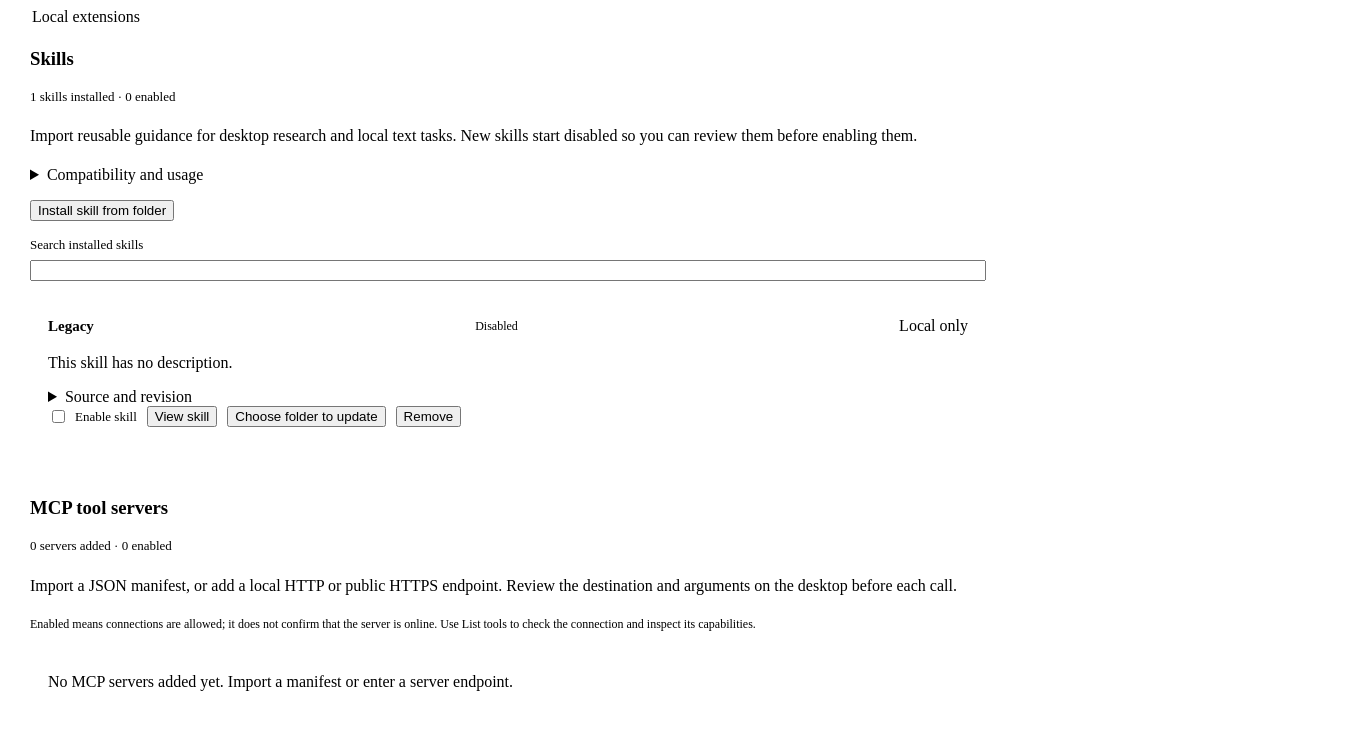
Test: offers an explicit source choice for legacy skills and removes only the selected entry
Expected: the button "Choose folder to update" is shown, [227,406,386,427]
Click the heading "Source and revision". click: (128, 397)
box: [65,388,192,405]
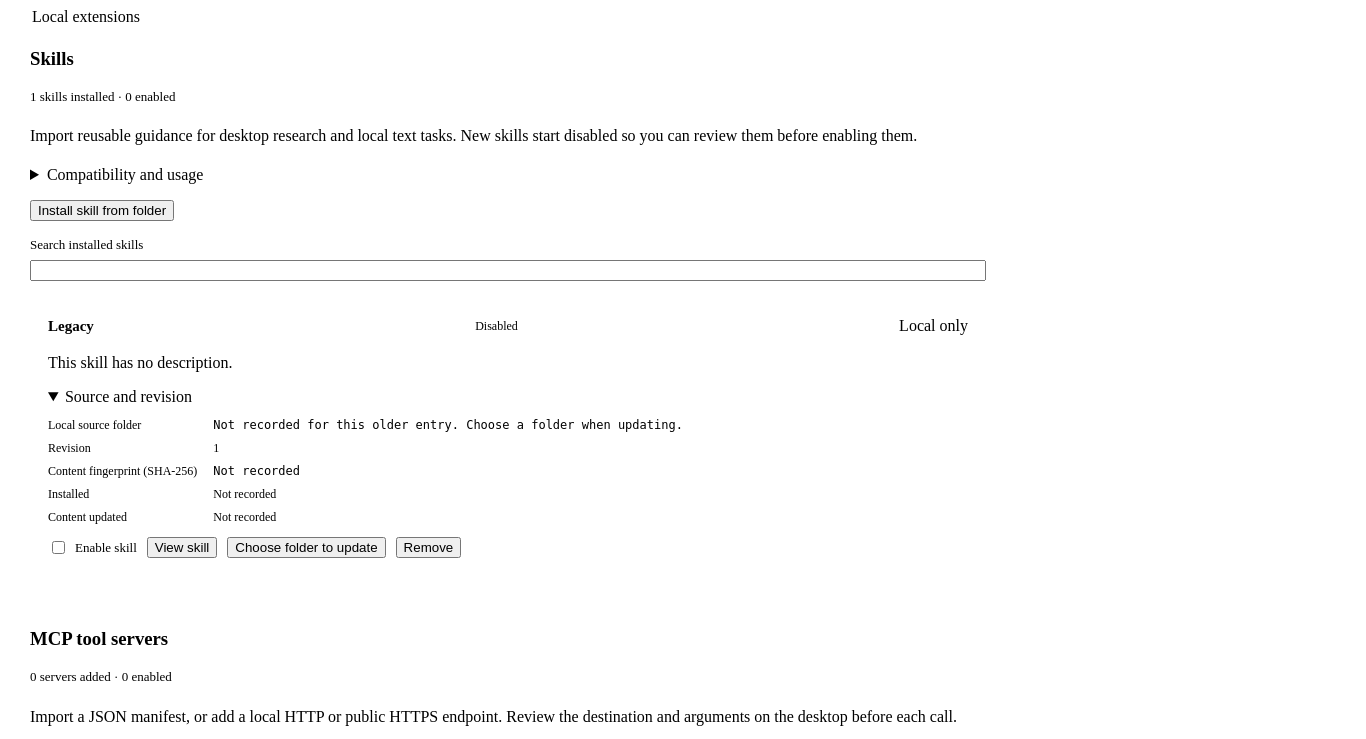
Expected: the text "Not recorded for this older entry. Choose a folder when updating." is shown, [213,418,683,432]
Click the button "Remove". click: (428, 548)
box: [396,537,461,558]
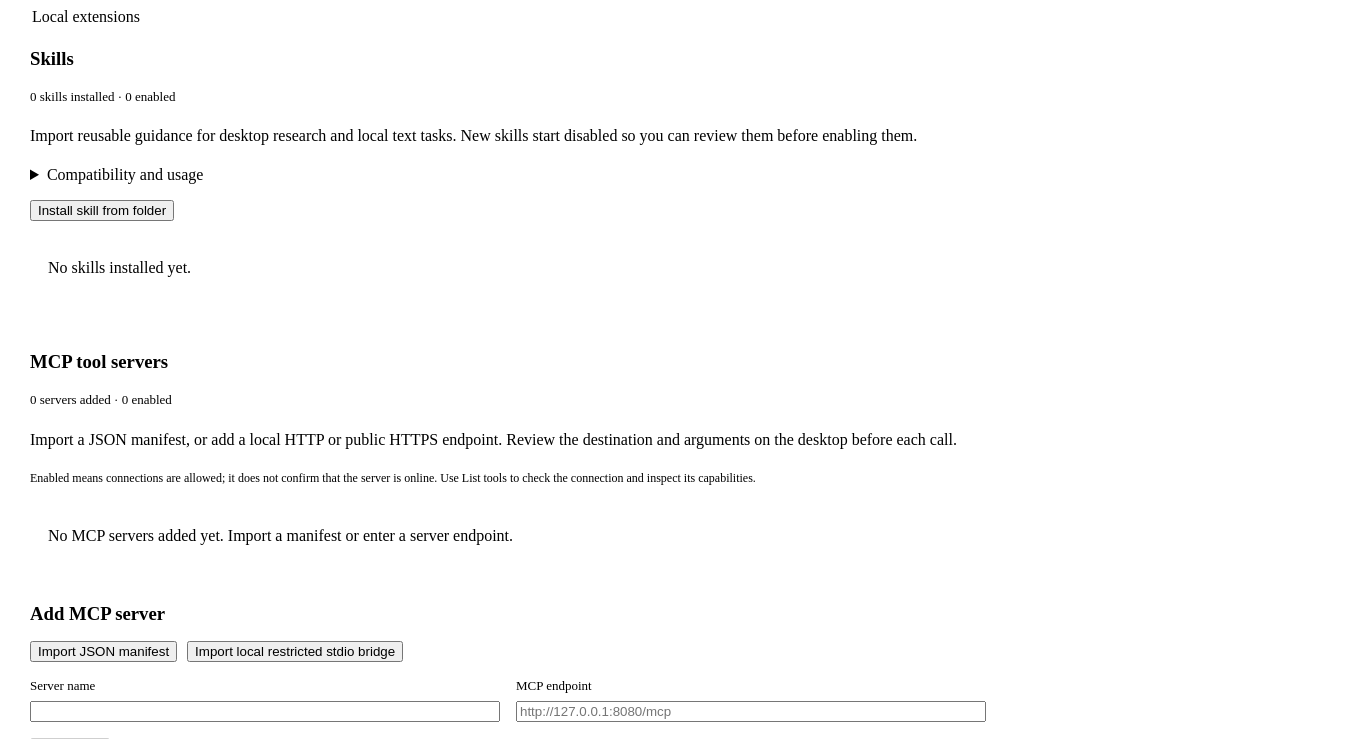
Expected: the text "No skills installed yet." is shown, [48,259,191,276]
